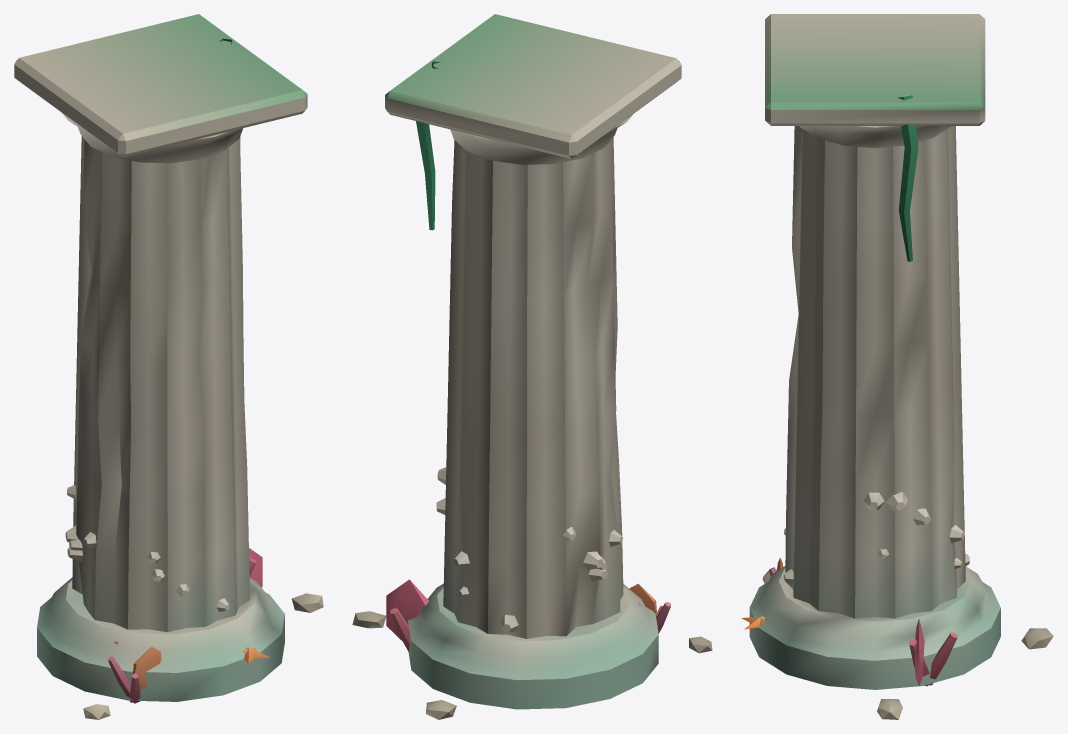
Rendered from reef_column.glb.
3 views of the same model, side by side, from view 1: azimuth 30°, elevation 25°; view 2: azimuth 150°, elevation 25°; view 3: azimuth 270°, elevation 25° (orthographic).
Parts seen in each view (by area): view 1: reef_column; view 2: reef_column; view 3: reef_column.
Part boxes in pixels (x1=…): reef_column: x1=14, y1=14, x2=323, y2=719; reef_column: x1=352, y1=14, x2=712, y2=719; reef_column: x1=741, y1=14, x2=1053, y2=719.
Size of the model in its own units: 2.34 by 4.43 by 2.14.
